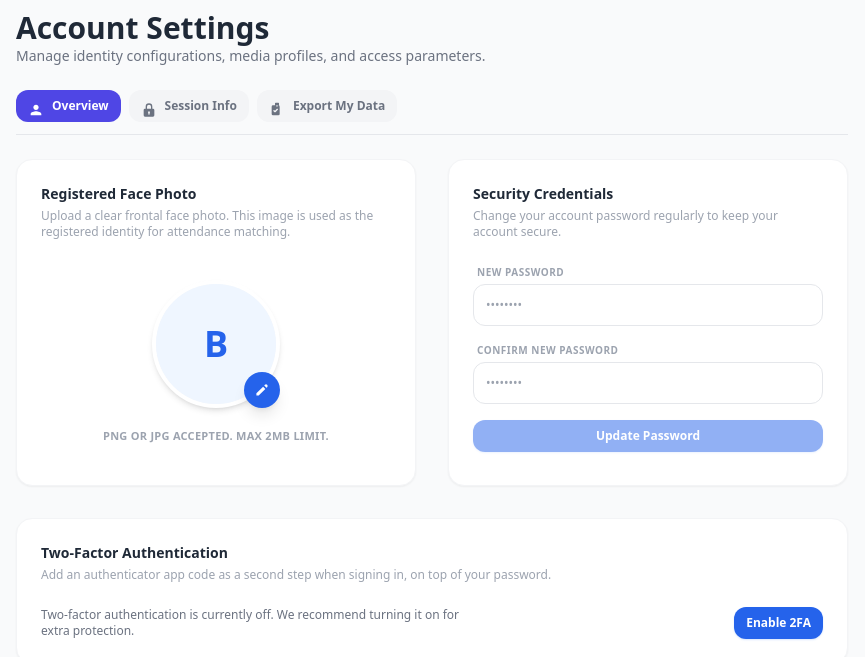
Test: SettingsView › the Session Info tab shows the current session details
This screenshot has width=865, height=657.
Click the tab "Session Info": {"x": 189, "y": 106} [128,90,249,122]
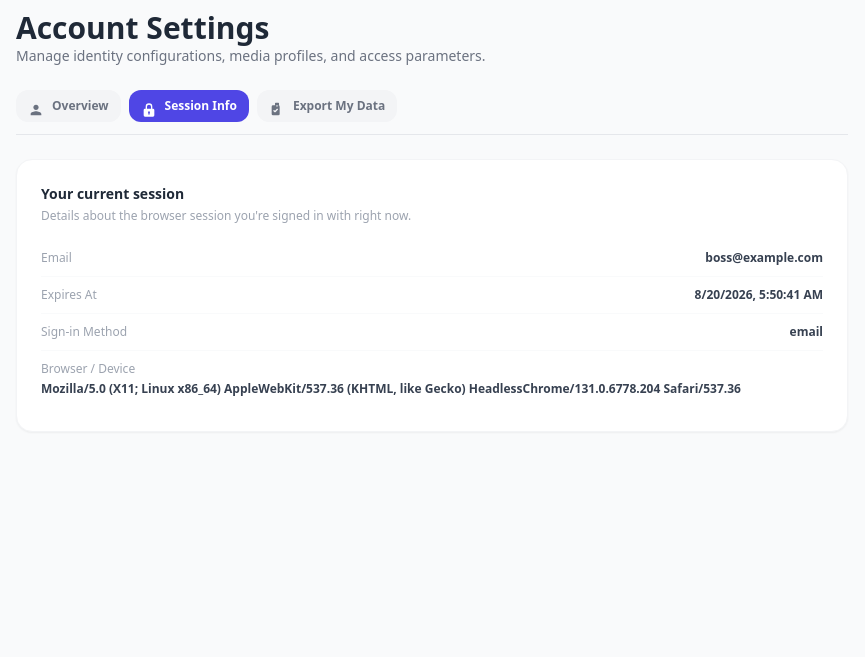
Expected: the text "boss@example.com" is shown, [705,250,823,266]
